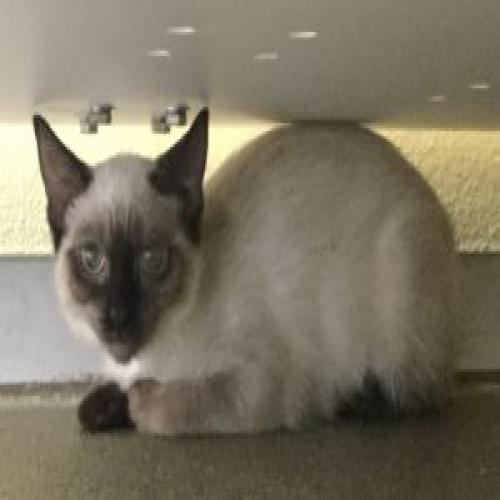siamese: (27, 105, 223, 382)
